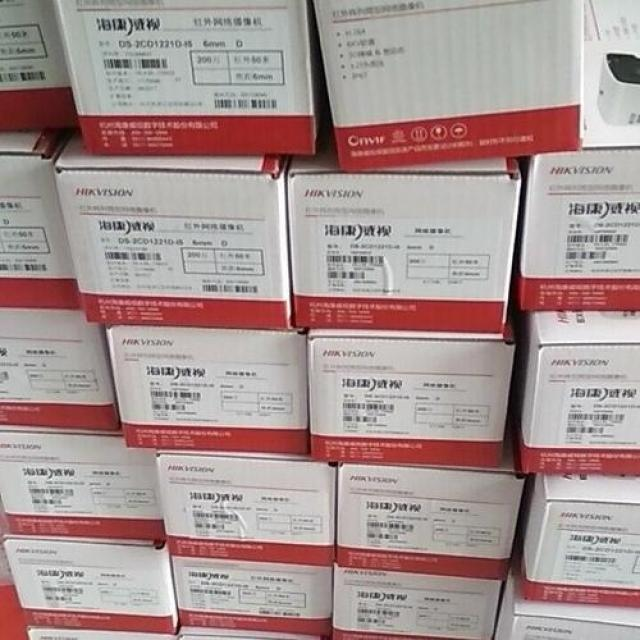Carton: (314, 12, 639, 306), (0, 325, 306, 531), (1, 456, 333, 639), (55, 163, 296, 330), (292, 175, 521, 333), (61, 12, 311, 152), (333, 471, 516, 639), (311, 339, 512, 462), (517, 310, 639, 474), (527, 495, 639, 603)
